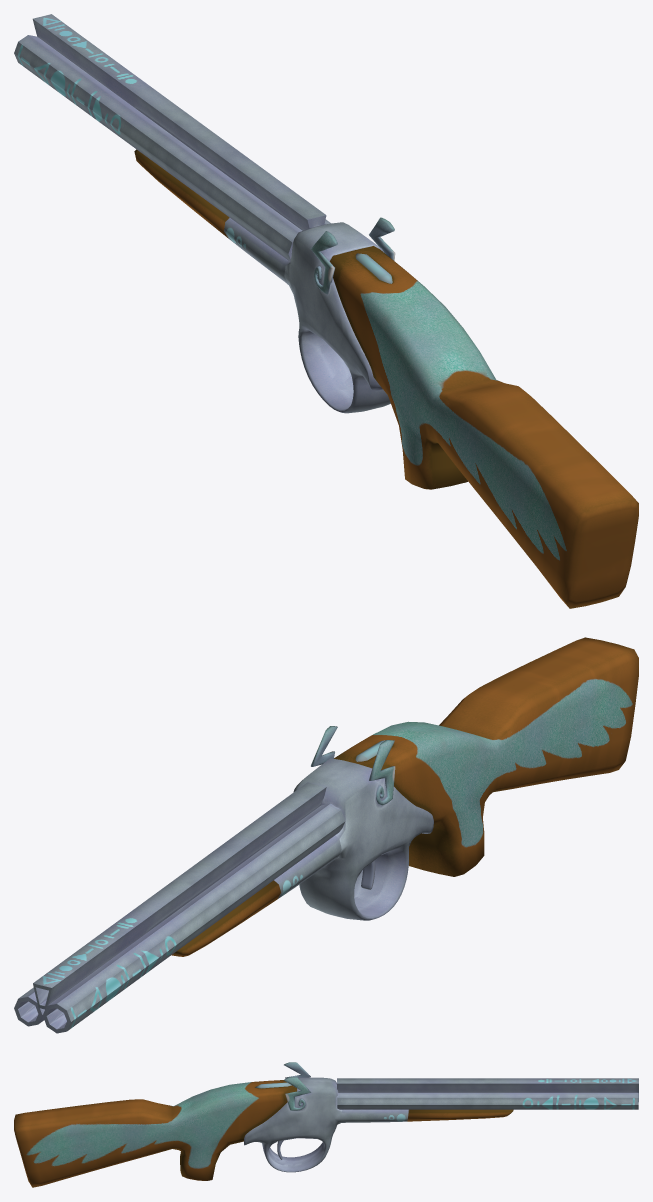
Rendered from DEF_shotgun.fbx.
3 renders of one model, top to bottom at view 1: azimuth 30°, elevation 25°; view 2: azimuth 150°, elevation 25°; view 3: azimuth 270°, elevation 25°, orthographic. The views are drawn at different scales.
Visible parts, largest first — view 1: shotgun, canne_shotgun, percussori_shotgun; view 2: shotgun, canne_shotgun, percussori_shotgun; view 3: shotgun, canne_shotgun, percussori_shotgun.
Boxes of the visible parts, bbox=[...] form: shotgun: bbox=[224, 218, 638, 608]; canne_shotgun: bbox=[14, 14, 331, 261]; percussori_shotgun: bbox=[311, 217, 395, 294]; shotgun: bbox=[274, 637, 638, 920]; canne_shotgun: bbox=[14, 782, 345, 1033]; percussori_shotgun: bbox=[311, 726, 395, 805]; shotgun: bbox=[14, 1077, 408, 1187]; canne_shotgun: bbox=[337, 1078, 638, 1121]; percussori_shotgun: bbox=[283, 1062, 310, 1110].
Size of the model in its own units: 48.22 by 139 by 704.
